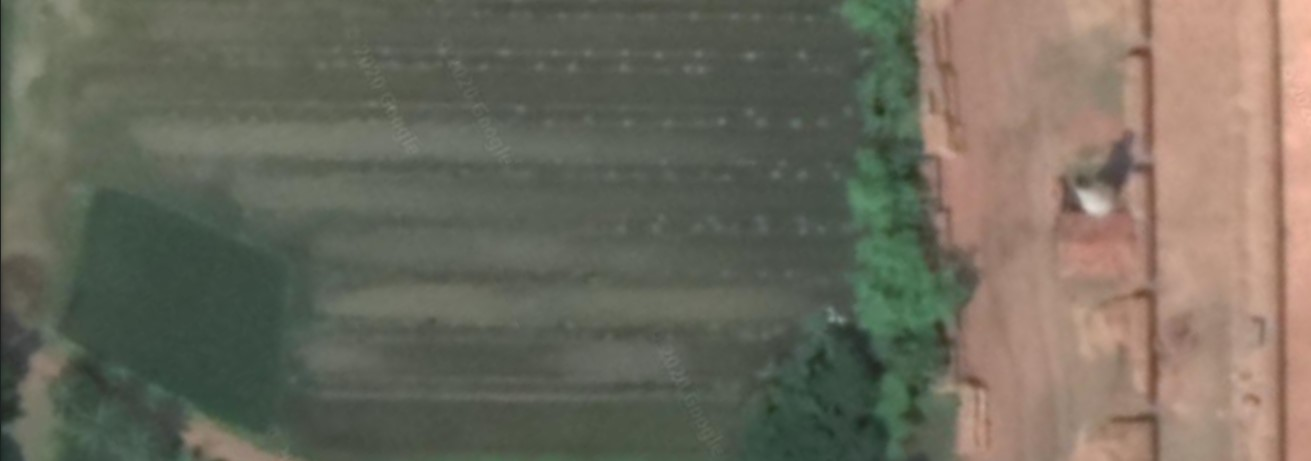kiln: (964, 7, 1292, 448)
